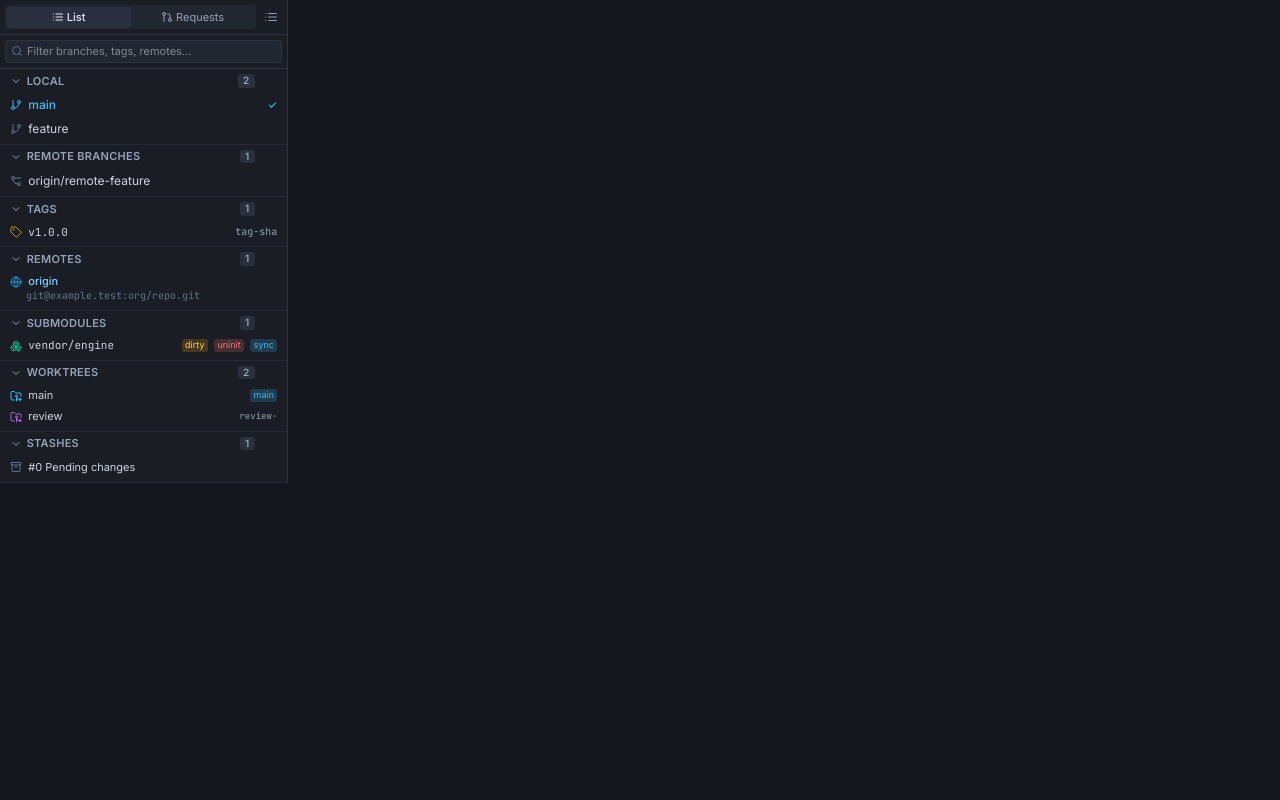
Test case: Sidebar navigation, sizing and selection › checks out local/remote branches on double-click and exposes More Options from either checkout modal
Double-click the button "feature" at (48, 128), box x1=0 y1=117 x2=287 y2=140
Double-click the button "origin/remote-feature" at (144, 181), box x1=0 y1=169 x2=287 y2=193
Click the button "feature" at (48, 128), box x1=0 y1=117 x2=287 y2=140
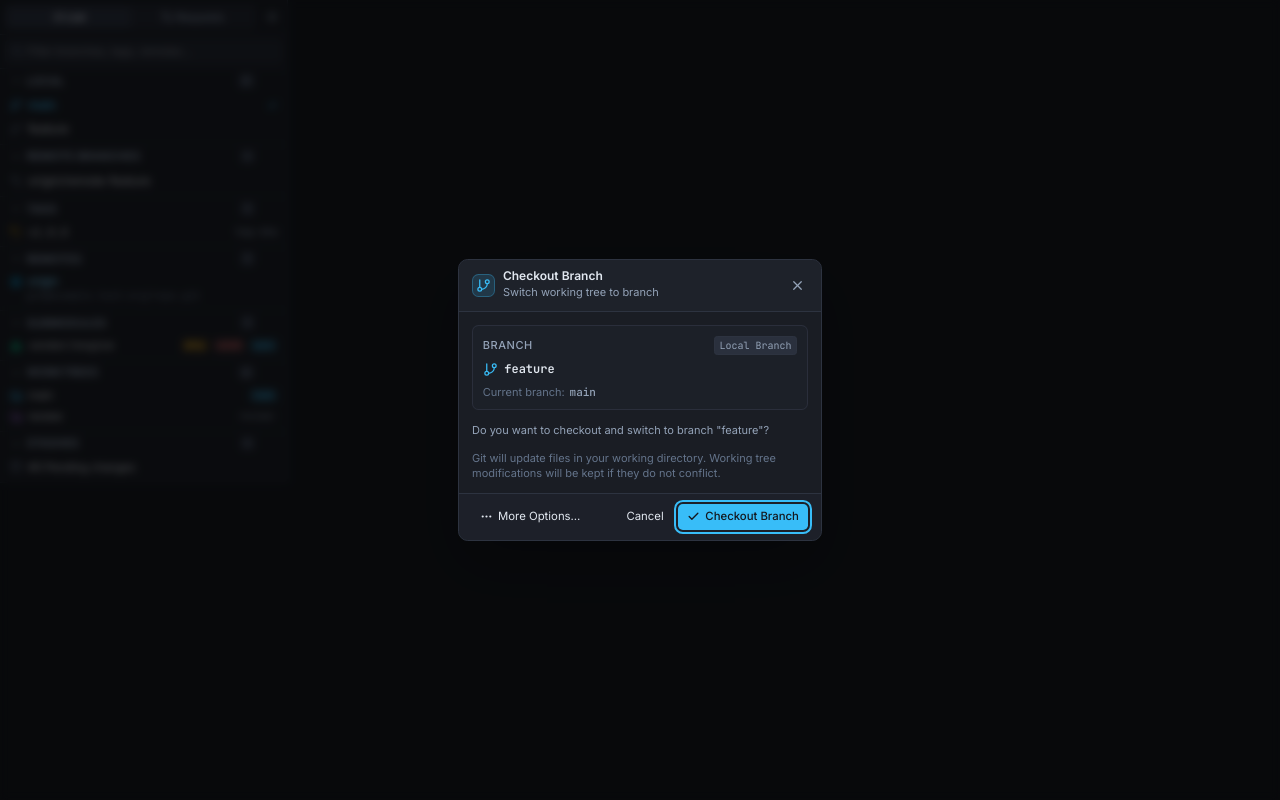
Click the button "More Options…" at (530, 517), box x1=472 y1=506 x2=588 y2=528
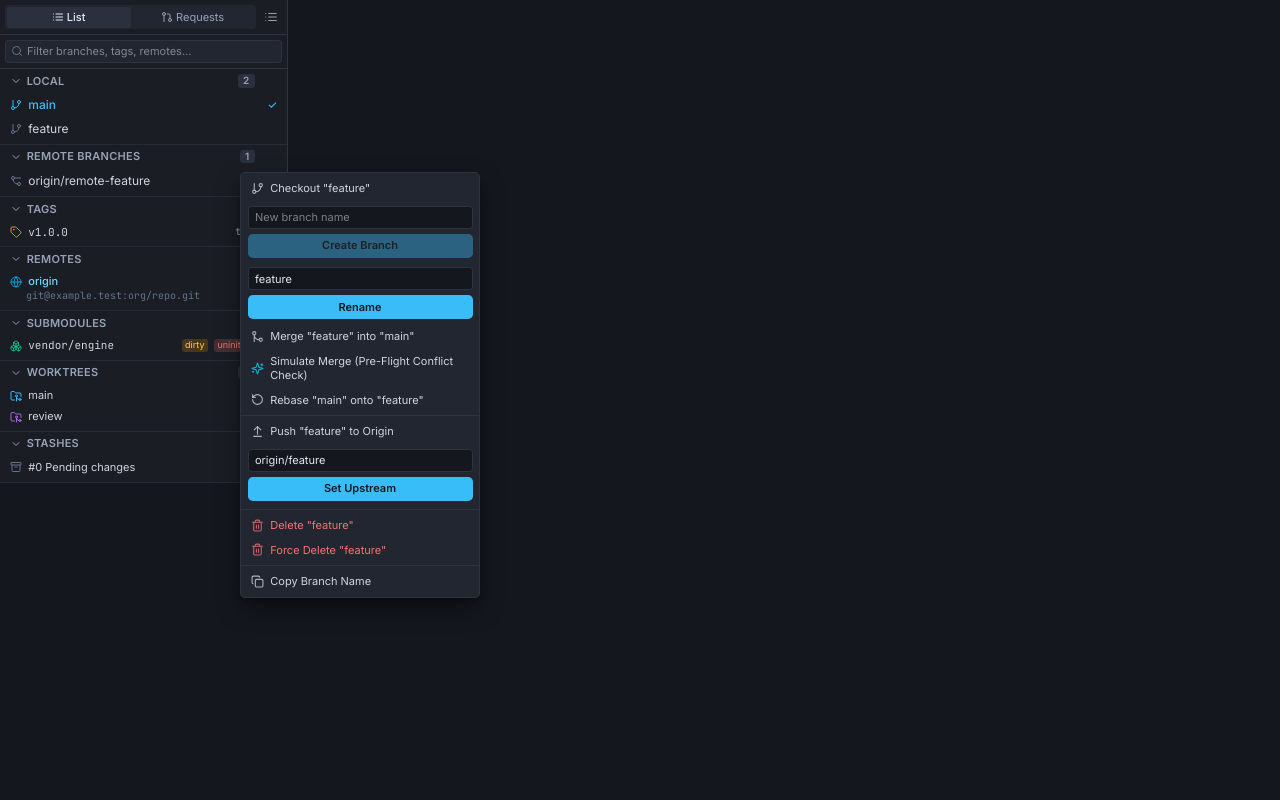
Expected: the button "Merge \"feature\" into \"main\"" is shown, x1=241 y1=324 x2=479 y2=349
Press Escape
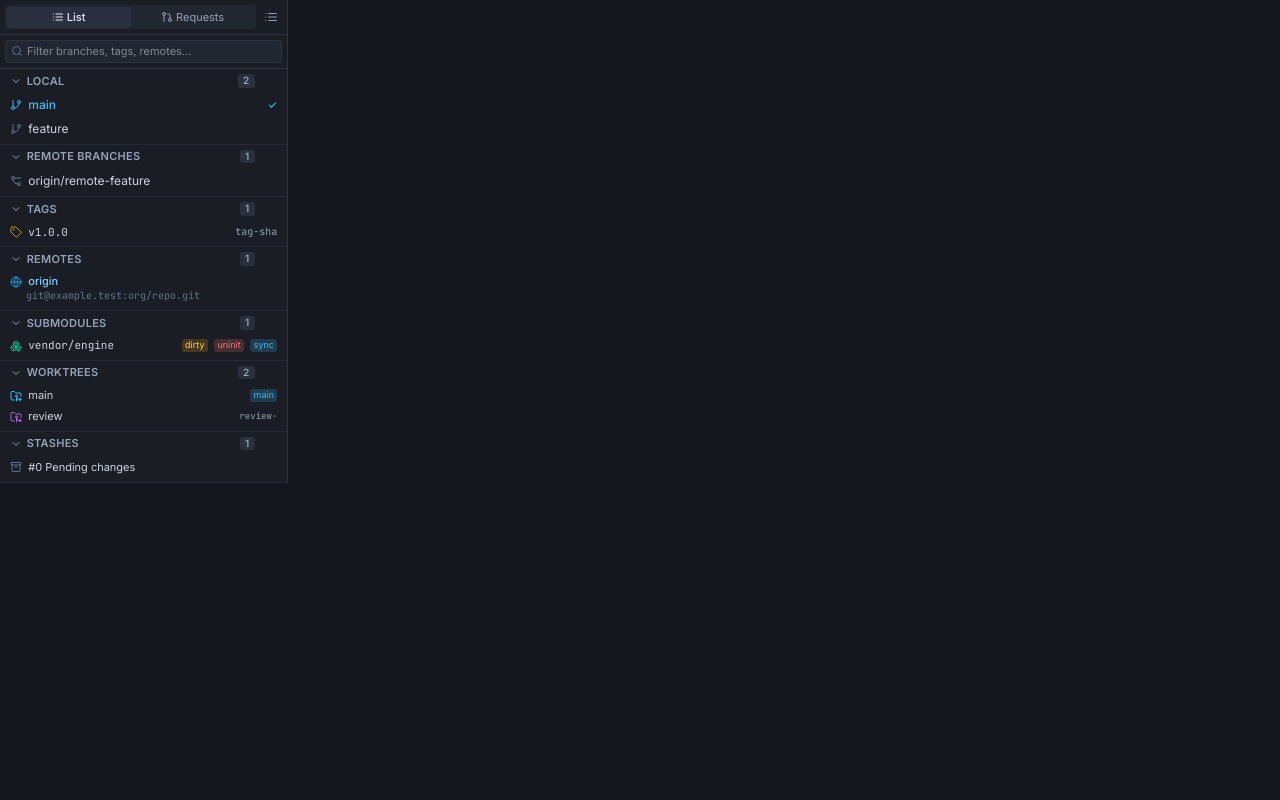
Click the button "origin/remote-feature" at (144, 181), box x1=0 y1=169 x2=287 y2=193
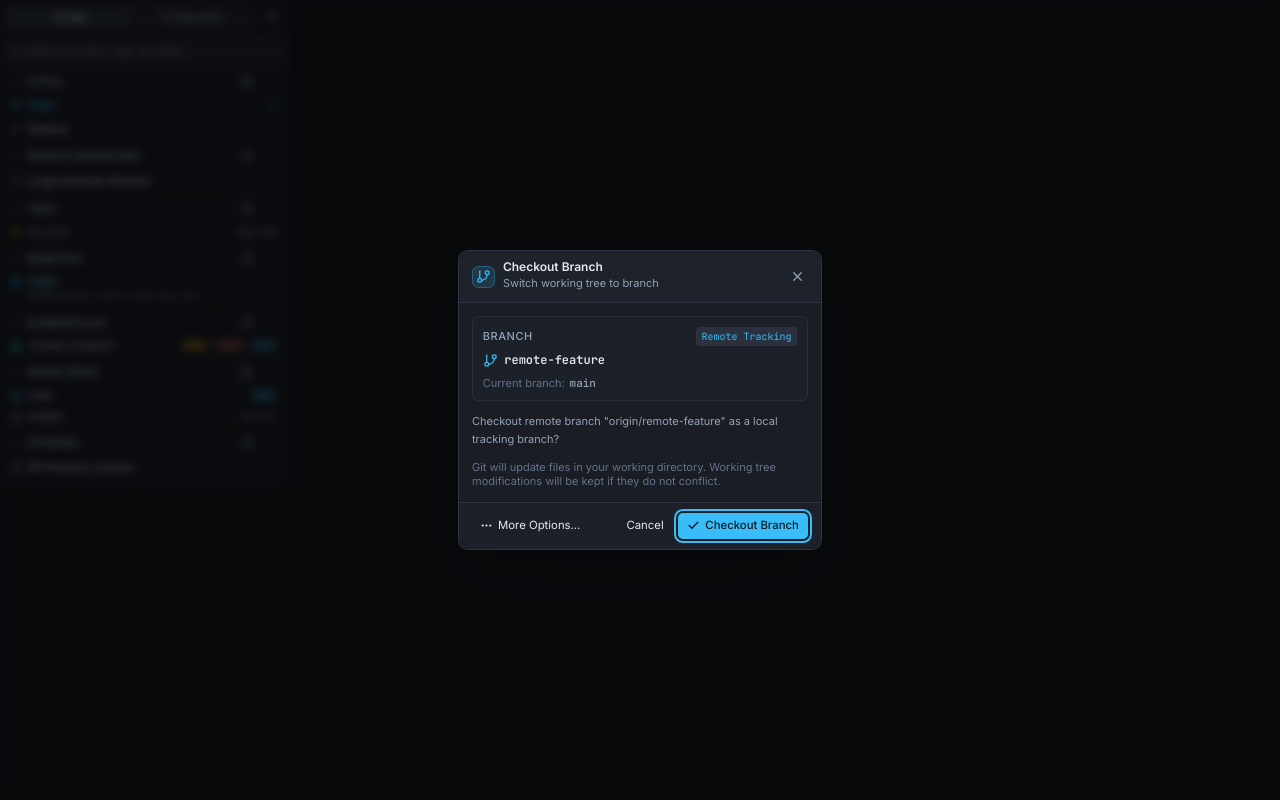
Click the button "More Options…" at (530, 526), box x1=472 y1=515 x2=588 y2=537
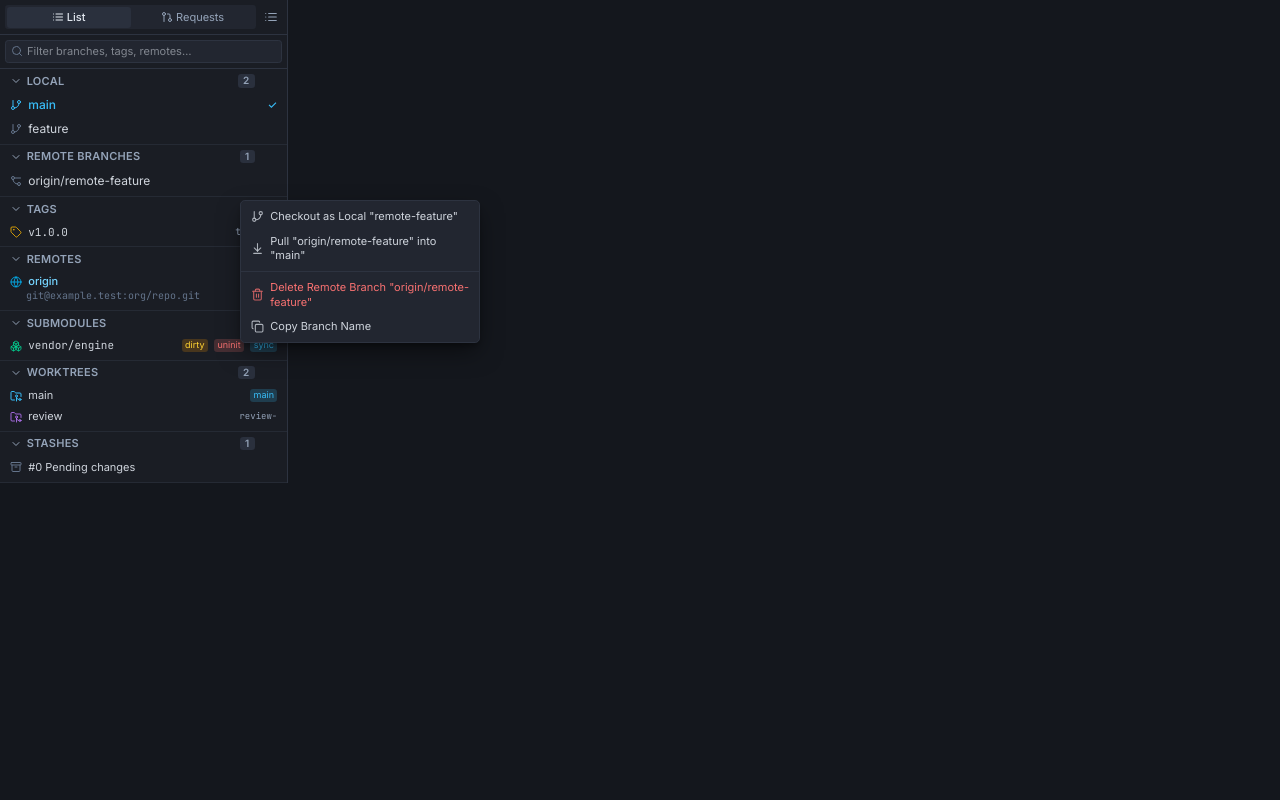
Expected: the button "Checkout as Local \"remote-feature\"" is shown, x1=241 y1=204 x2=479 y2=229
